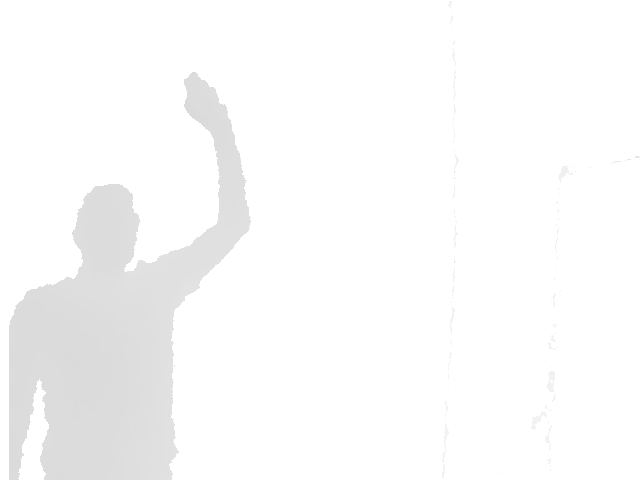hand: (182, 71, 235, 129)
head: (70, 182, 142, 266)
person: (9, 71, 253, 480)
